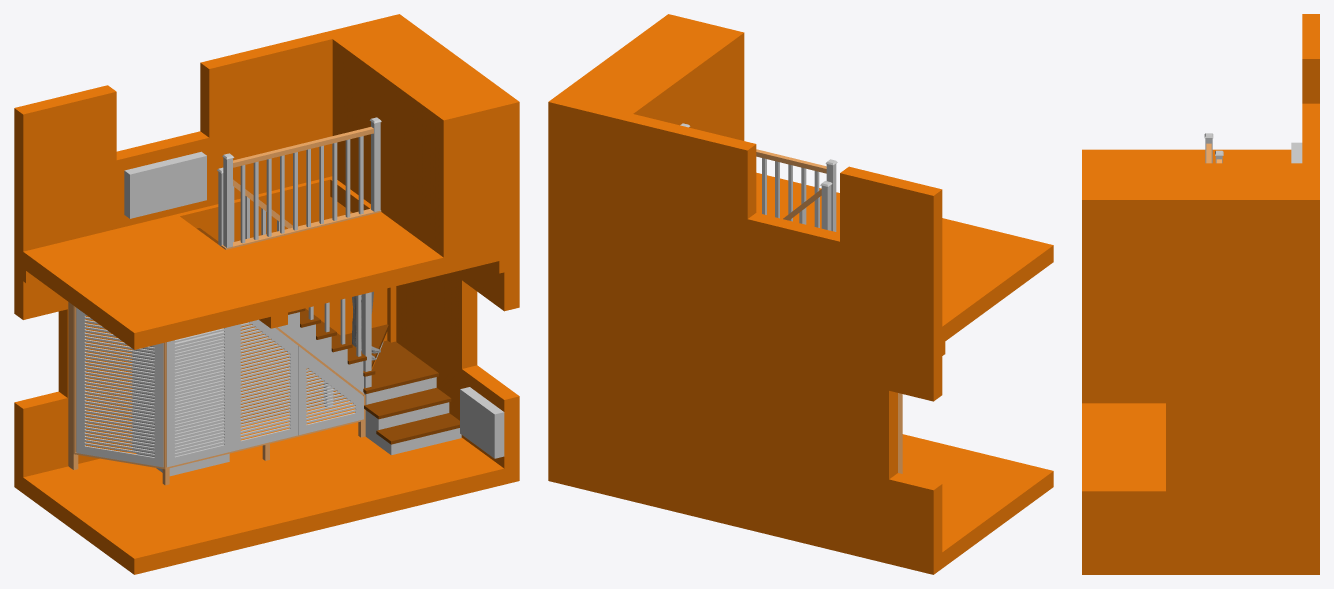
The model's file is устройство лестницы на косоурах.obj.
3 views of the same model, side by side, from view 1: azimuth 30°, elevation 25°; view 2: azimuth 150°, elevation 25°; view 3: azimuth 270°, elevation 25° (orthographic).
Size of the model in its own units: 5 by 4.7 by 2.7.
